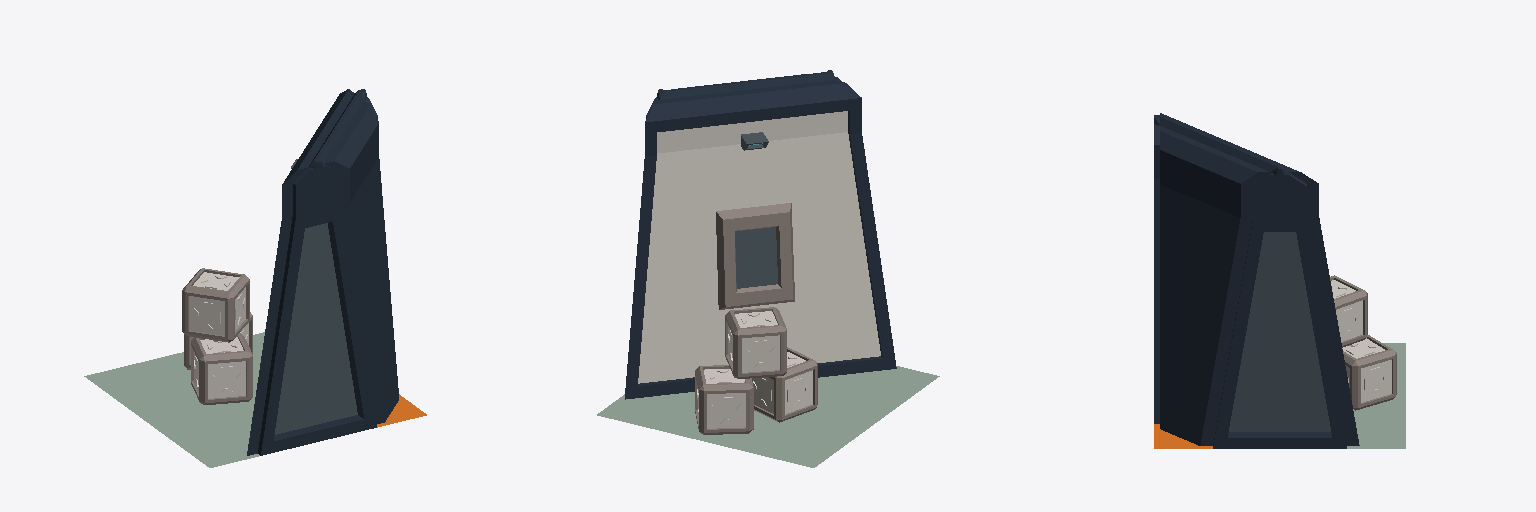
3 views of the same model, side by side, from view 1: azimuth 30°, elevation 25°; view 2: azimuth 150°, elevation 25°; view 3: azimuth 270°, elevation 25° (orthographic).
Parts seen in each view (by area): view 1: Plane.003; view 2: Plane.003; view 3: Plane.003.
Boxes of the visible parts, <box> form: Plane.003: <box>84,89,426,467</box>; Plane.003: <box>597,70,939,467</box>; Plane.003: <box>1154,113,1405,448</box>.
Size of the model in its own units: 2 by 2.45 by 2.
Materials: 1 (1 with a texture image).